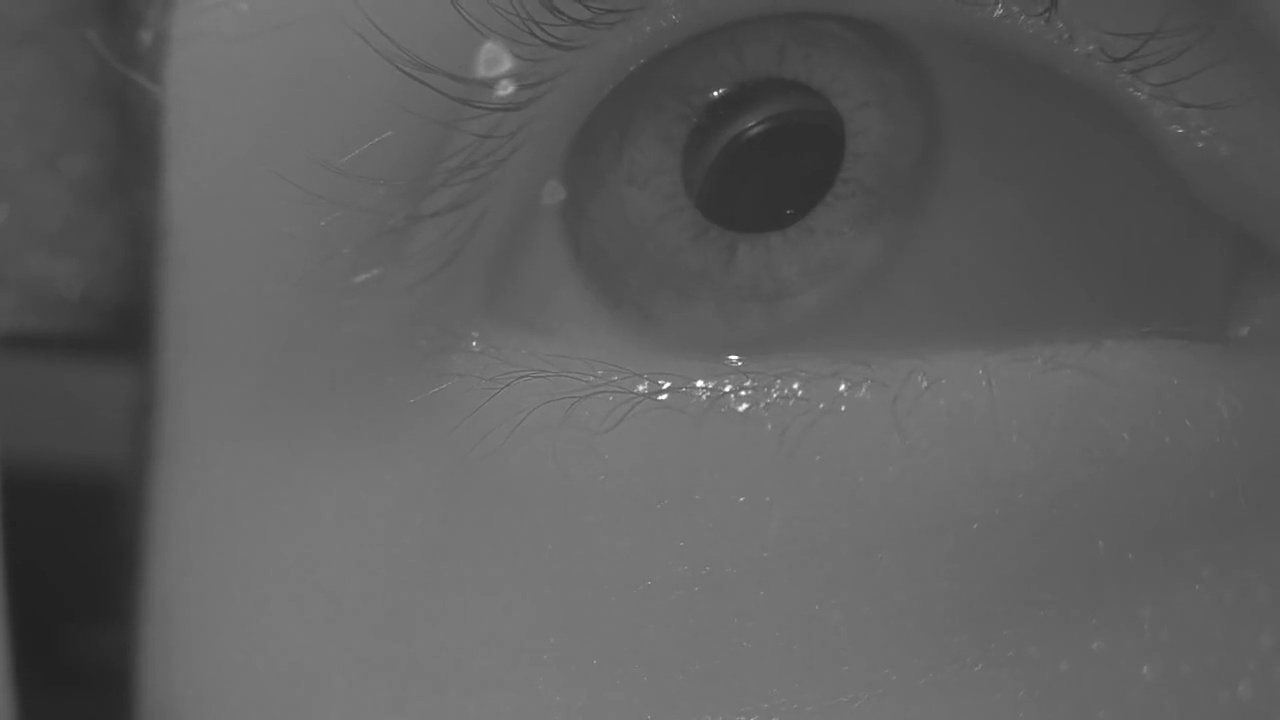pupil: (683, 75, 843, 235)
